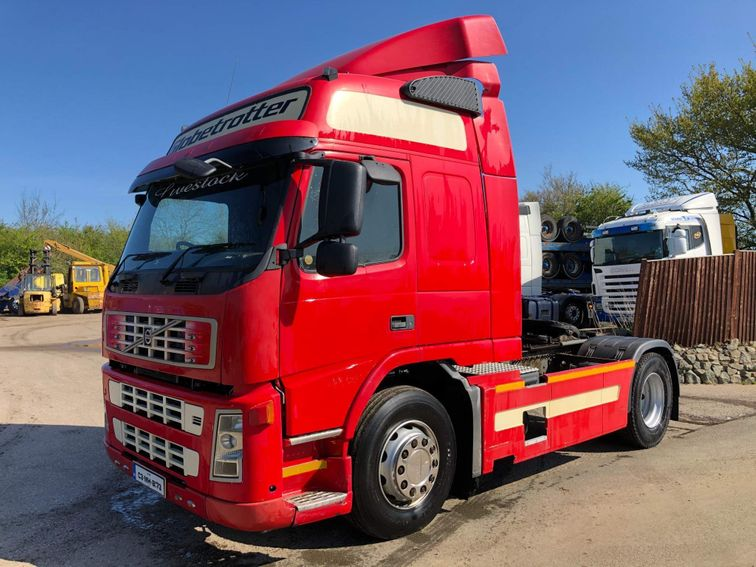Semi: (100, 14, 680, 541), (588, 192, 723, 335)
